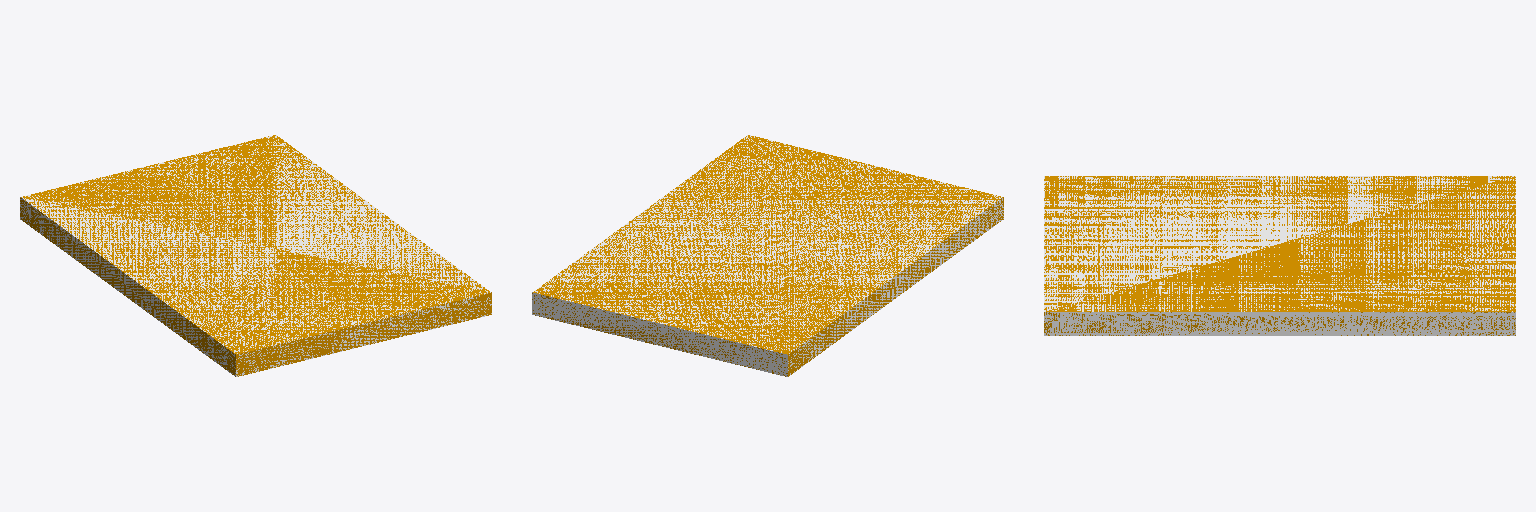
The robot description file, URDF, robot "my_object":
<?xml version="1.0" ?> 
<robot name="my_object" static="true">
  <link name="base_link">
  <inertial>
    <mass value="0.700" />
    <origin xyz="0 0 0.0" />
    <inertia ixx="1.0" ixy="0.0" ixz="0.0" iyy="1.0" iyz="0.0" izz="1.0"/>
  </inertial>
  <visual>
   <origin xyz="0 0 0.0" rpy="0 0 0" />
   <geometry>
     <mesh filename="package://cob_gazebo_objects/Media/models/pizza_box.dae"/>
   </geometry>
  </visual>
  <collision>
   <origin xyz="0 0 0.0175" rpy="0 0 0" />
   <geometry>
     <box size="0.41 0.60 0.035" />
   </geometry>
  </collision>     
  </link>

<gazebo reference="base_link">
  <mu1>1.0</mu1>
  <mu2>1.0</mu2>
  <kp>1000000.0</kp>
  <kd>1.0</kd>
</gazebo>

<gazebo>
	<static>false</static>
</gazebo>
</robot>

--- Render facts (derived) ---
Views: 3 orthographic renders of the robot side by side, from view 1: azimuth 30°, elevation 25°; view 2: azimuth 150°, elevation 25°; view 3: azimuth 270°, elevation 25°.
Model my_object with 1 links and 0 joints (none), rooted at base_link, posed every joint at zero.
Visible links, largest first — view 1: base_link; view 2: base_link; view 3: base_link.
Boxes of the visible links, x1,y1,x2,y2 form: base_link: [20, 135, 491, 376]; base_link: [532, 135, 1003, 376]; base_link: [1044, 176, 1515, 335].
Size in the robot's own frame: 0.4103 by 0.5995 by 0.0346 metres.
Meshes: 1 distinct files referenced, 1 mesh visuals loaded (1 Collada DAE).